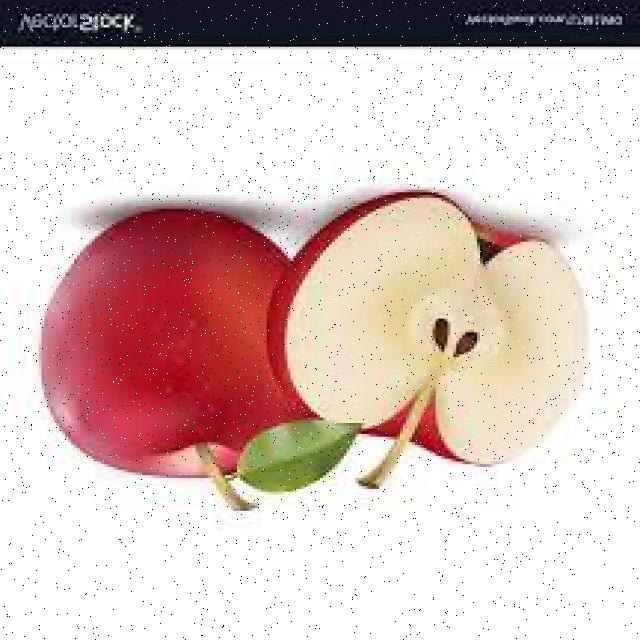Apple: (273, 190, 590, 482), (40, 208, 302, 513)
